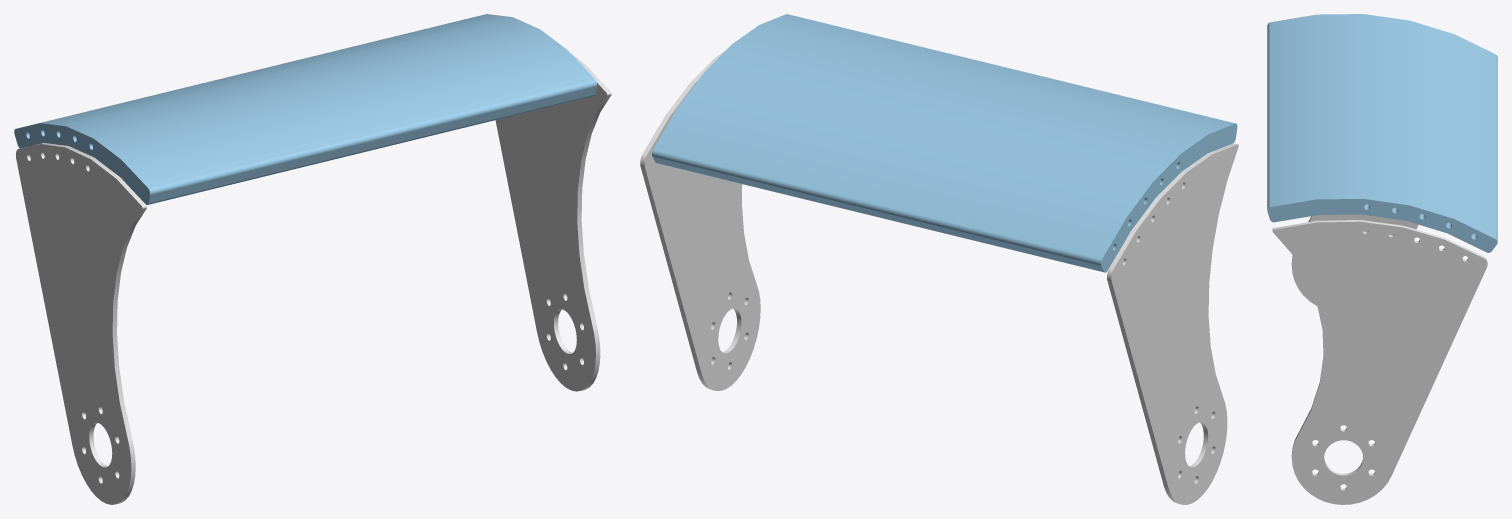
3 renders of one model, left to right at view 1: azimuth 30°, elevation 25°; view 2: azimuth 150°, elevation 25°; view 3: azimuth 270°, elevation 25°, orthographic. The views are drawn at different scales.
Parts seen in each view (by area): view 1: Outer Hood Cover, Hood (×2); view 2: Outer Hood Cover, Hood (×2); view 3: Outer Hood Cover, Hood (×2).
Part boxes in pixels (bbox=[...]): Outer Hood Cover: bbox=[14, 14, 596, 204]; Hood (×2): bbox=[16, 53, 611, 504]; Outer Hood Cover: bbox=[652, 14, 1237, 272]; Hood (×2): bbox=[640, 50, 1238, 504]; Outer Hood Cover: bbox=[1267, 14, 1497, 252]; Hood (×2): bbox=[1272, 214, 1487, 504].
Bounding box in the file's own units: 0.3365 × 0.2417 × 0.1688.
